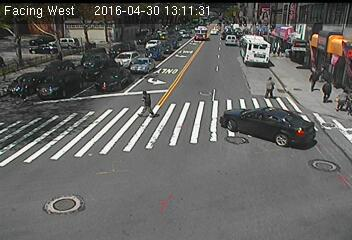neg: (71, 74, 94, 104), (318, 117, 339, 146), (73, 32, 93, 59), (328, 38, 348, 63), (203, 51, 222, 77), (37, 87, 56, 112), (303, 127, 322, 151), (149, 126, 165, 148), (172, 83, 188, 105), (196, 28, 211, 48), (246, 27, 260, 45), (170, 112, 184, 130), (178, 29, 190, 46), (31, 124, 42, 140), (224, 22, 235, 36), (311, 37, 321, 51), (67, 141, 76, 153)
pos: (134, 88, 156, 118), (261, 74, 279, 98), (305, 66, 323, 90), (334, 87, 351, 110), (320, 78, 337, 100), (54, 49, 64, 63), (276, 44, 286, 56)
